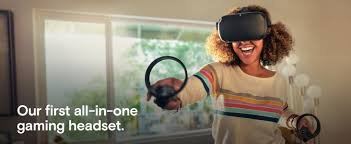oculus: (217, 13, 271, 45)
